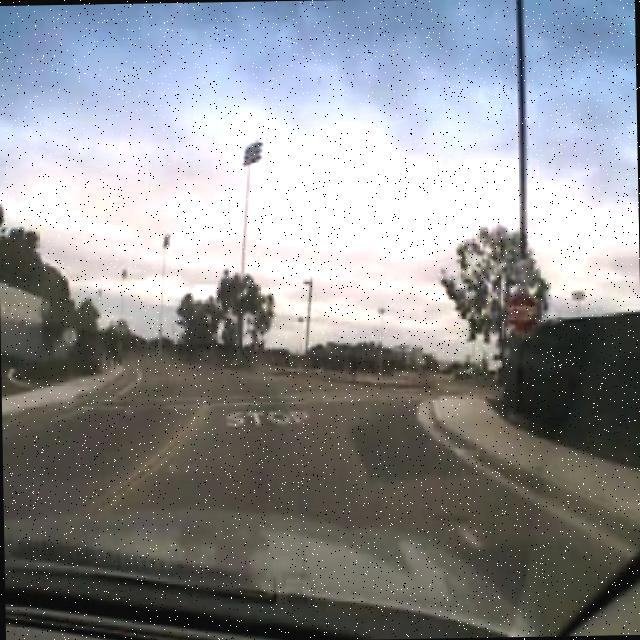Stop: (507, 291, 542, 339)
